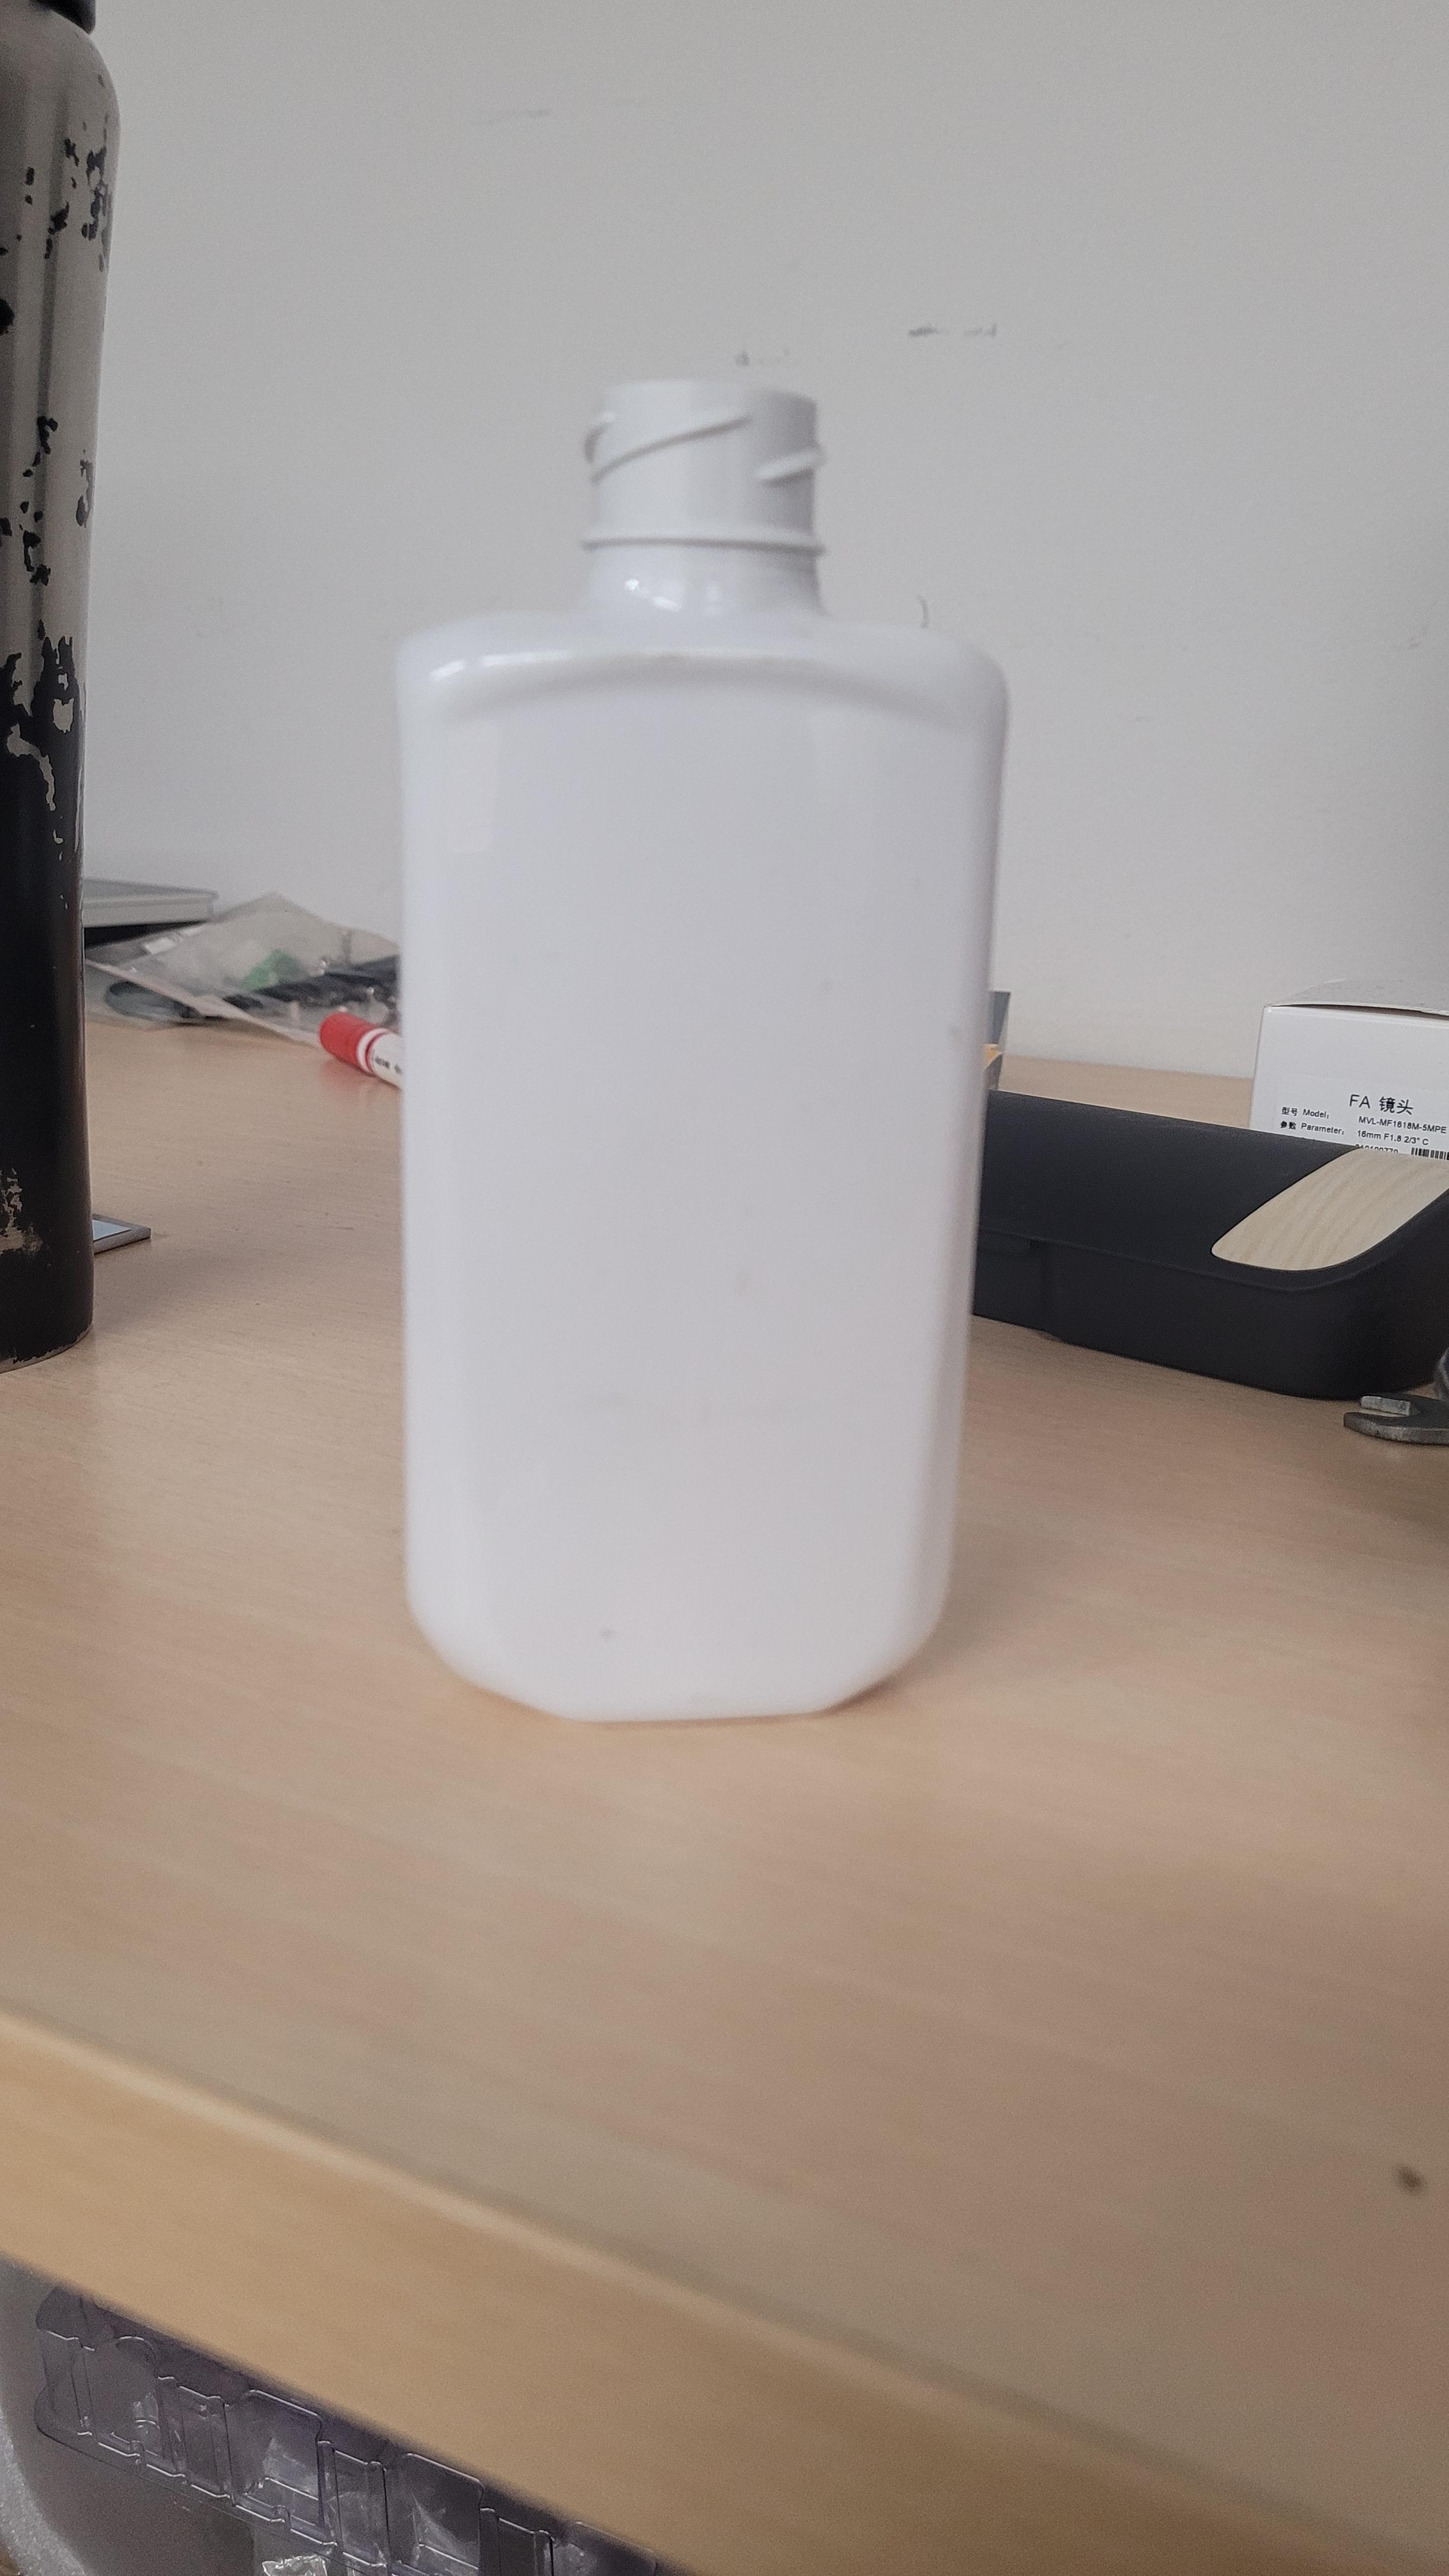Bad: (352, 308, 1054, 1783)
